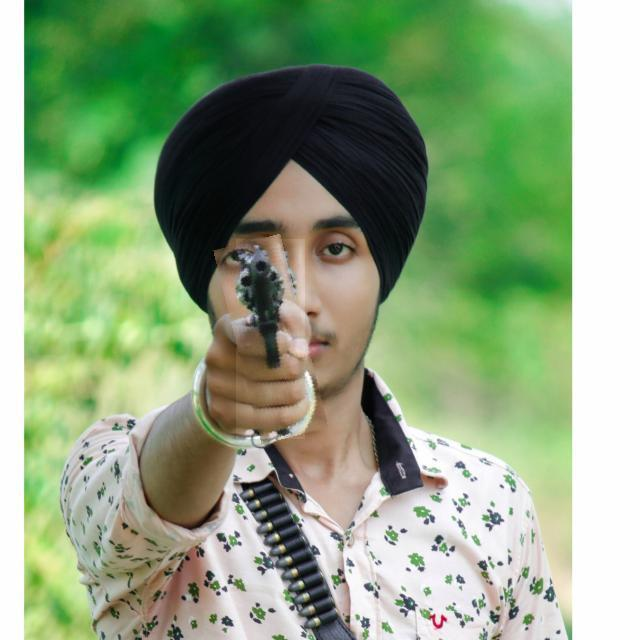handgun: (225, 236, 316, 442)
